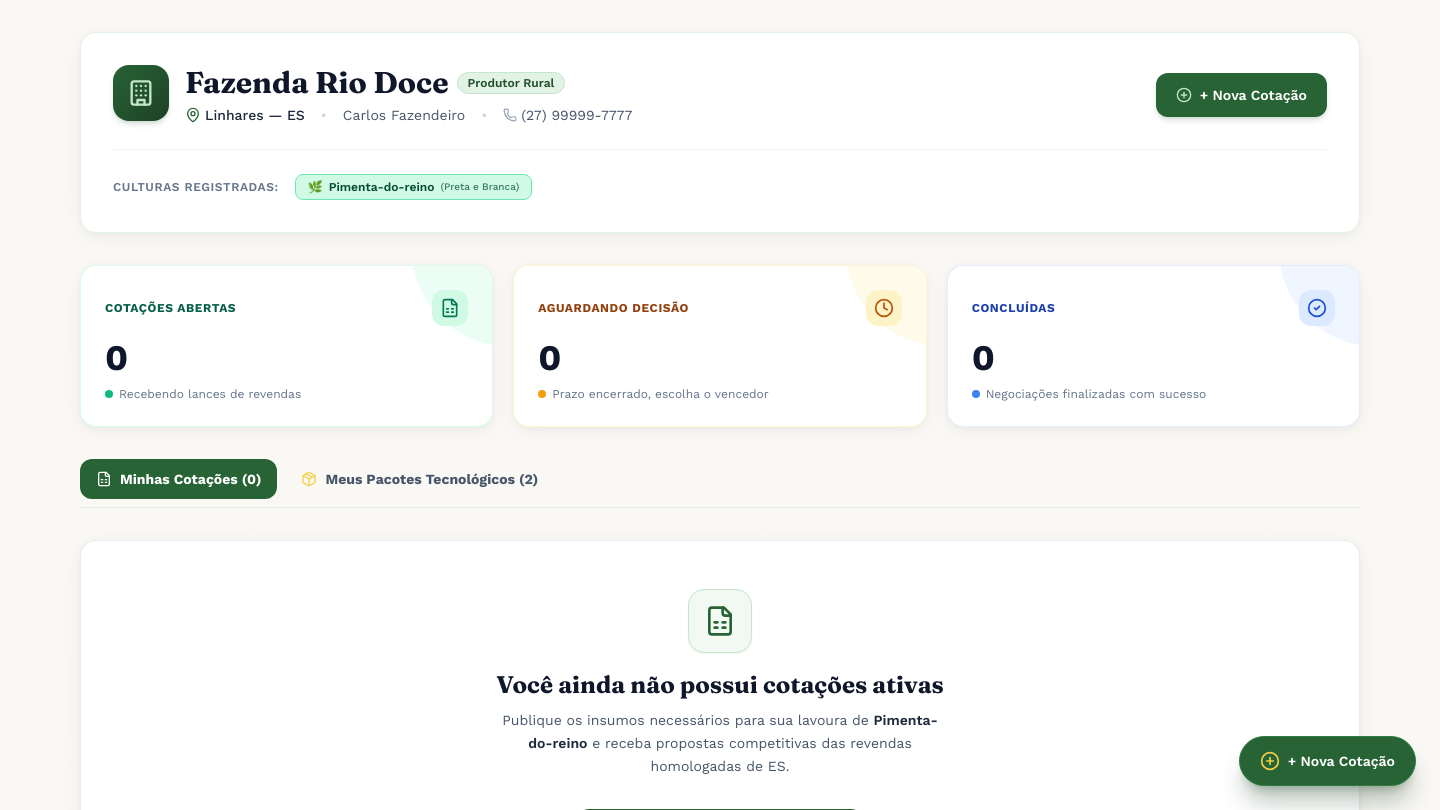
Test: US17 – Meus Pacotes Tecnológicos no Dashboard do Produtor › exibe estado vazio quando o produtor não tem pacotes salvos
Click the button with test id "tab-my-packages" at (420, 479), box [285, 459, 554, 499]
(page scrolled)
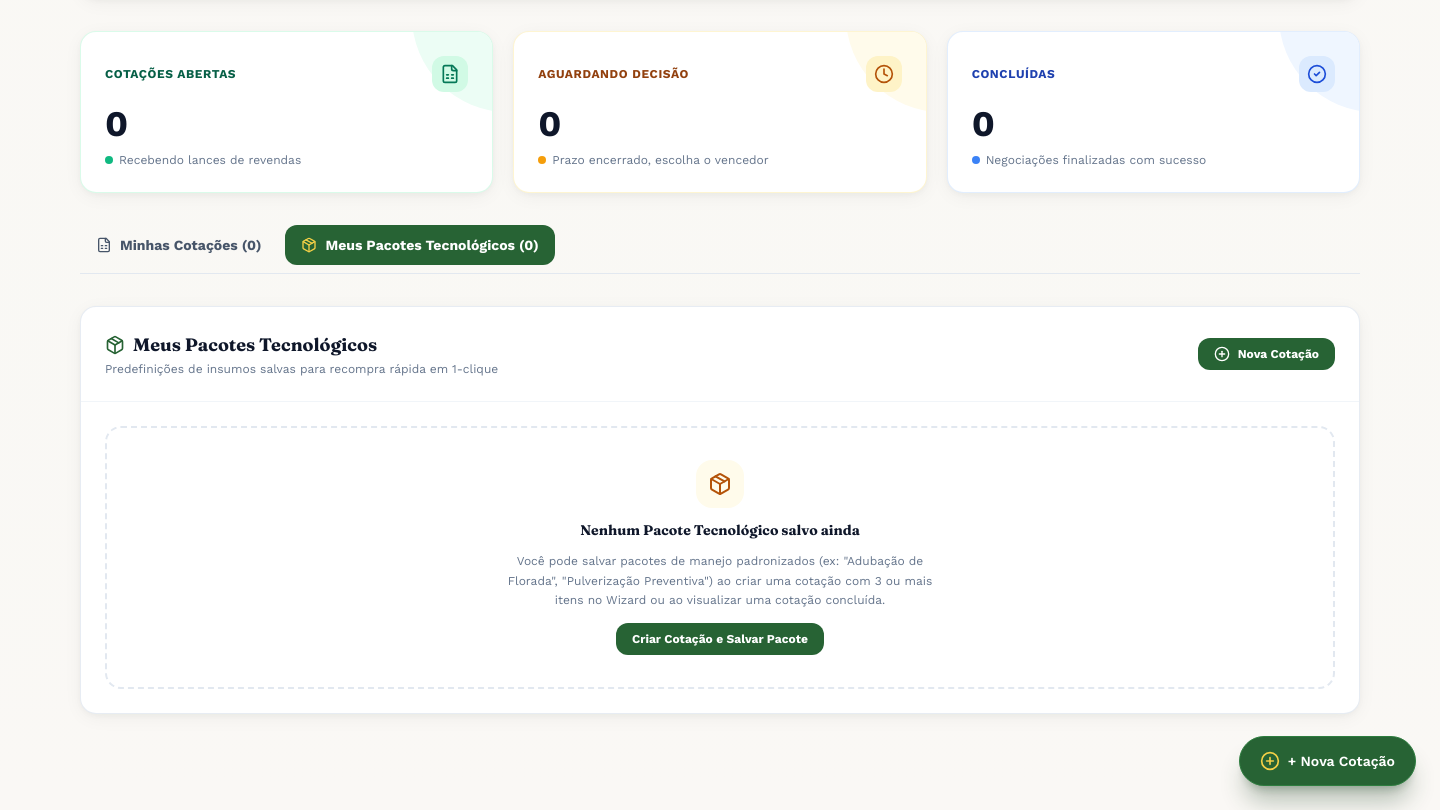
Expected: the heading "Nenhum Pacote Tecnológico salvo ainda" is shown, [580, 521, 860, 539]
Expected: the text "Criar Cotação e Salvar Pacote" is shown, [632, 630, 808, 646]
